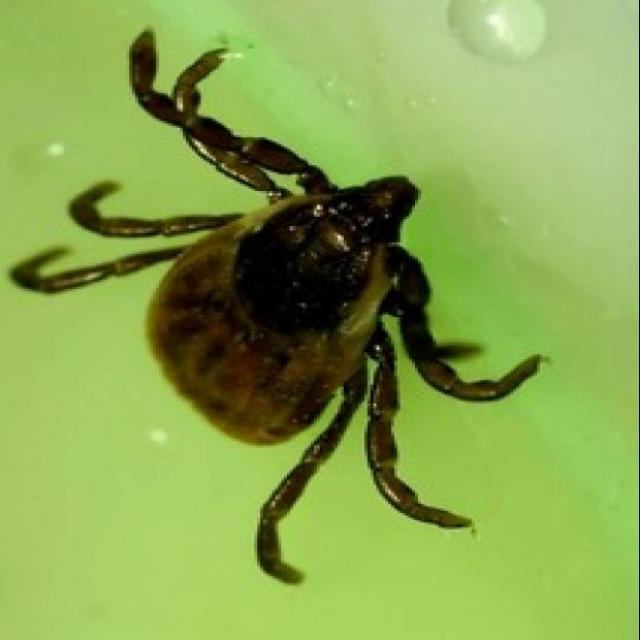Rhipicephalus Sanguineus-F: (8, 30, 547, 583)
